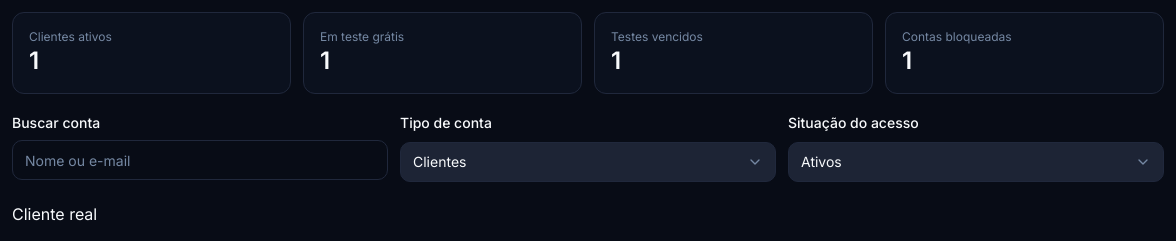
Test: Account directory and separate trial usage › defaults to active customers and lets the admin switch to trials or blocked accounts
Check: the list item "Cliente real" is shown, box [12,204,97,224]
Check: the text "Ítalo Guedes" is not shown
Click the button "Em teste grátis 1".
click(362, 36)  # box [303,12,582,94]
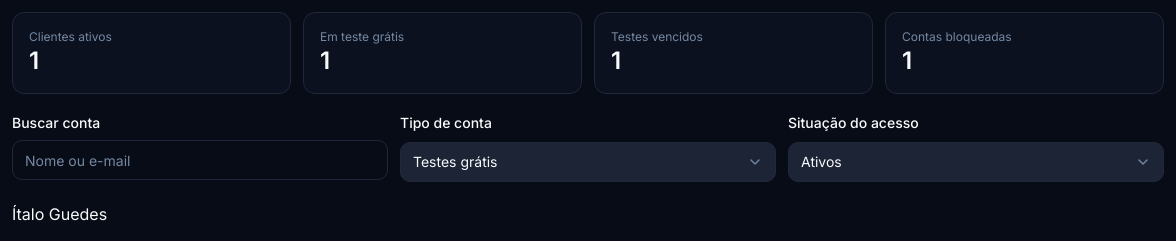
Check: the list item "Ítalo Guedes" is shown, box [12,204,107,224]
Check: the list item "Cliente real" is gone
Type "italo" into the field labelled "Buscar conta".
click(200, 160); type("italo")  # box [12,140,388,180]
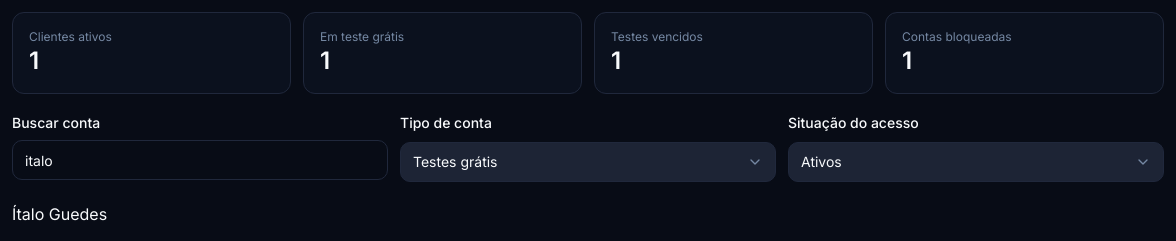
Check: the list item "Ítalo Guedes" is shown, box [12,204,107,224]
Clear the field labelled "Buscar conta" at {"x": 200, "y": 160}, box [12,140,388,180]
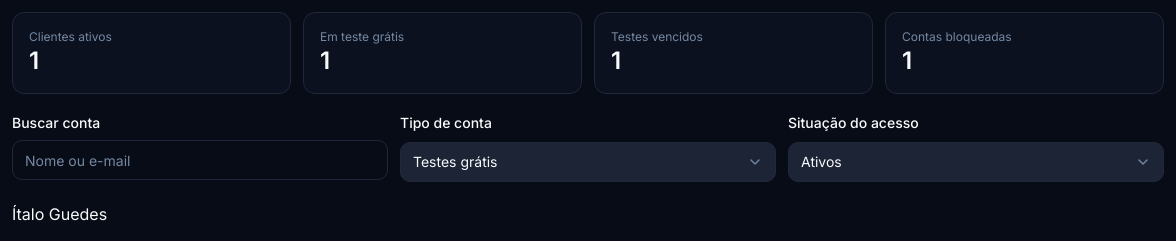
Click the button "Contas bloqueadas 1".
click(957, 36)  # box [885,12,1164,94]
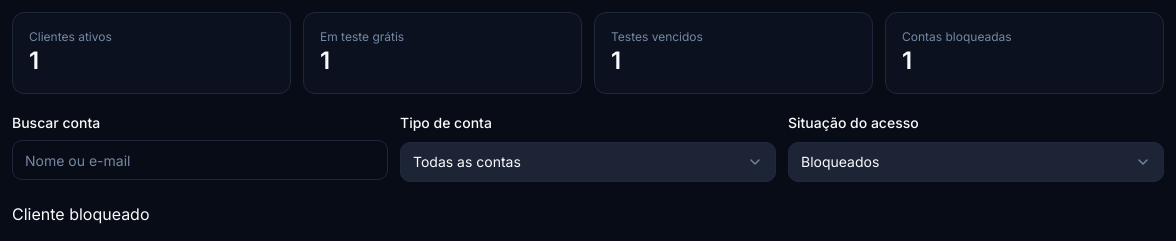
Check: the list item "Cliente bloqueado" is shown, box [12,204,150,224]
Check: the list item "Ítalo Guedes" is gone
